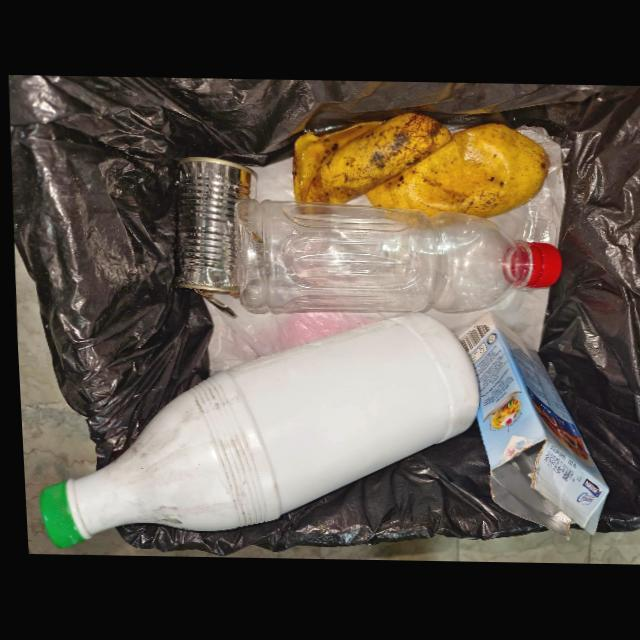biowaste: (289, 109, 551, 223)
metal: (174, 157, 254, 317)
paper: (453, 312, 603, 539)
plastic: (34, 311, 474, 549), (231, 200, 557, 312)
